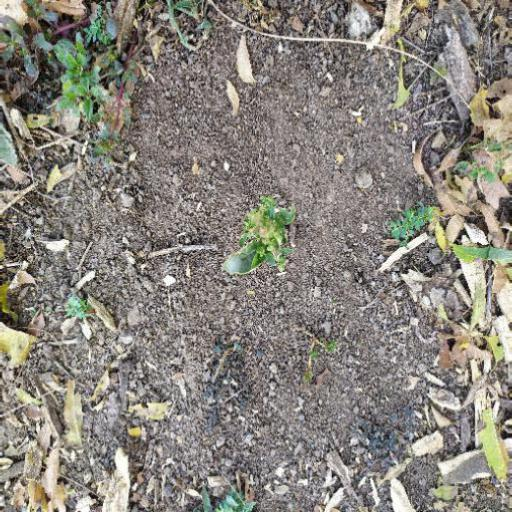weed: (35, 18, 131, 123), (223, 199, 307, 275)
